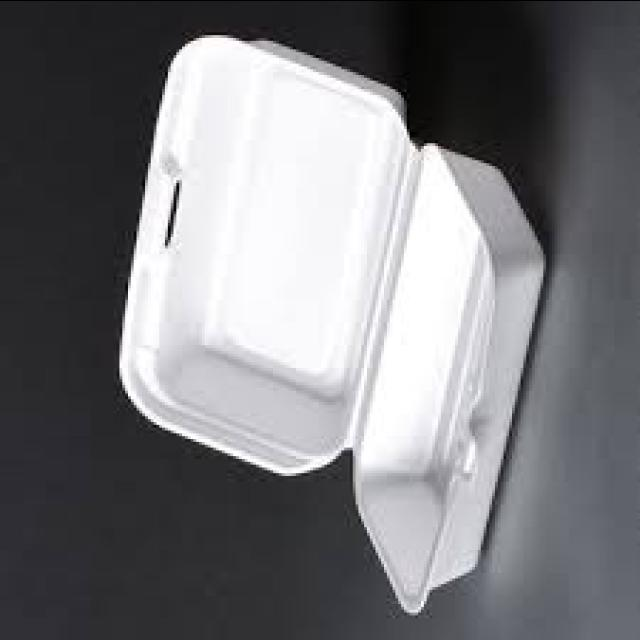styrofoam: (122, 36, 544, 612)
